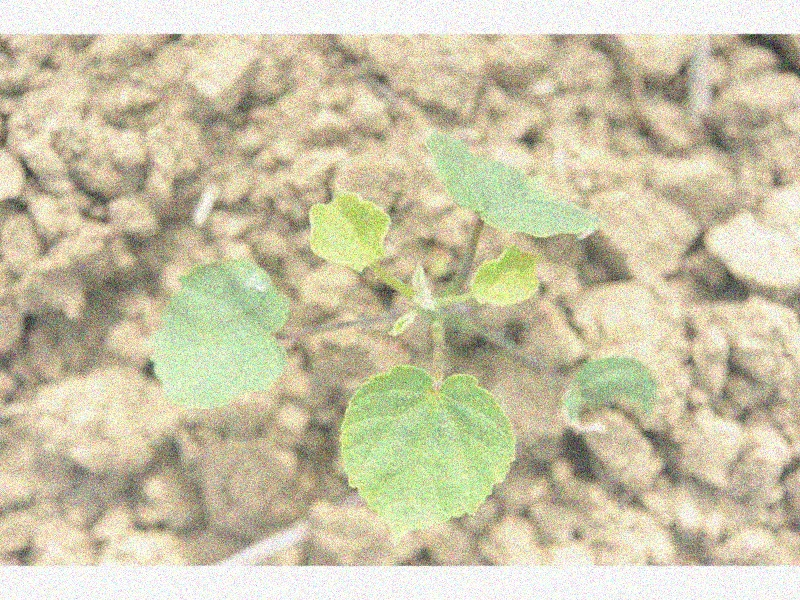velvet: (150, 136, 660, 538)
